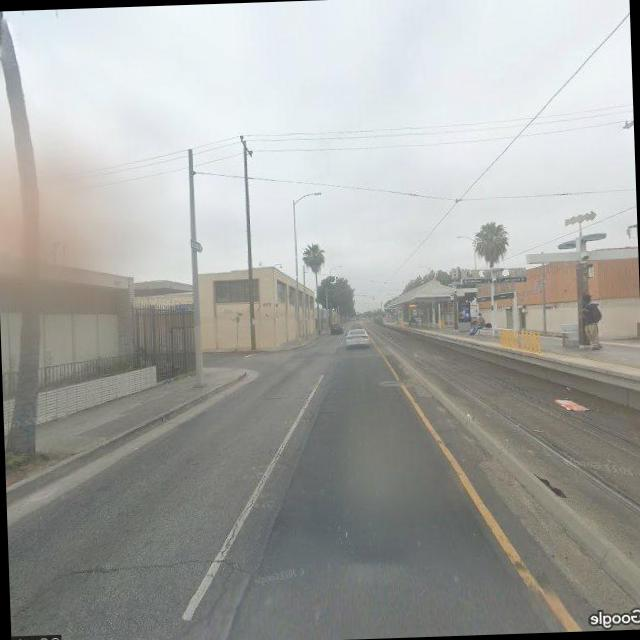crack: (52, 550, 215, 582)
